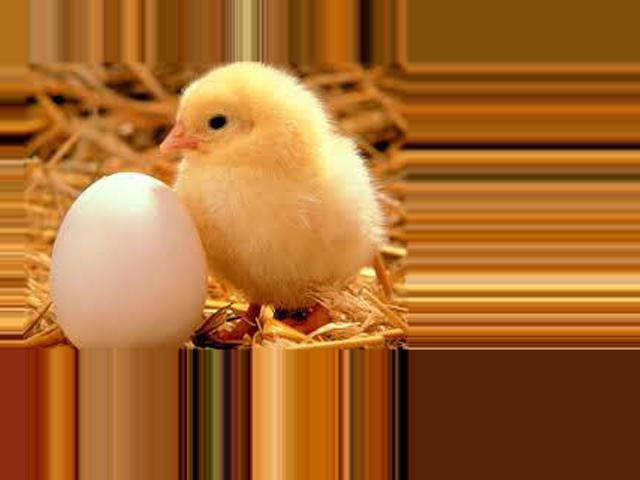egg: (50, 171, 208, 351)
